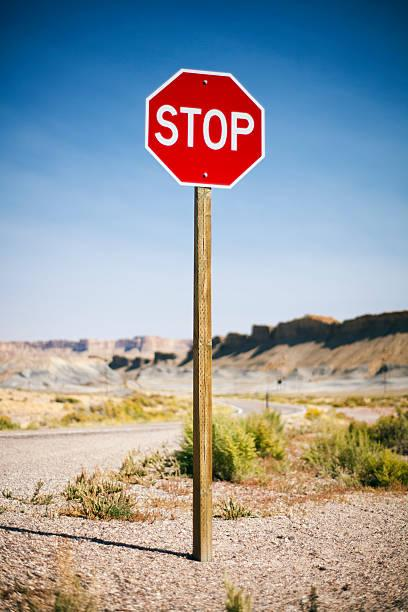Pole: (190, 185, 214, 552)
Sign: (147, 68, 266, 189)
